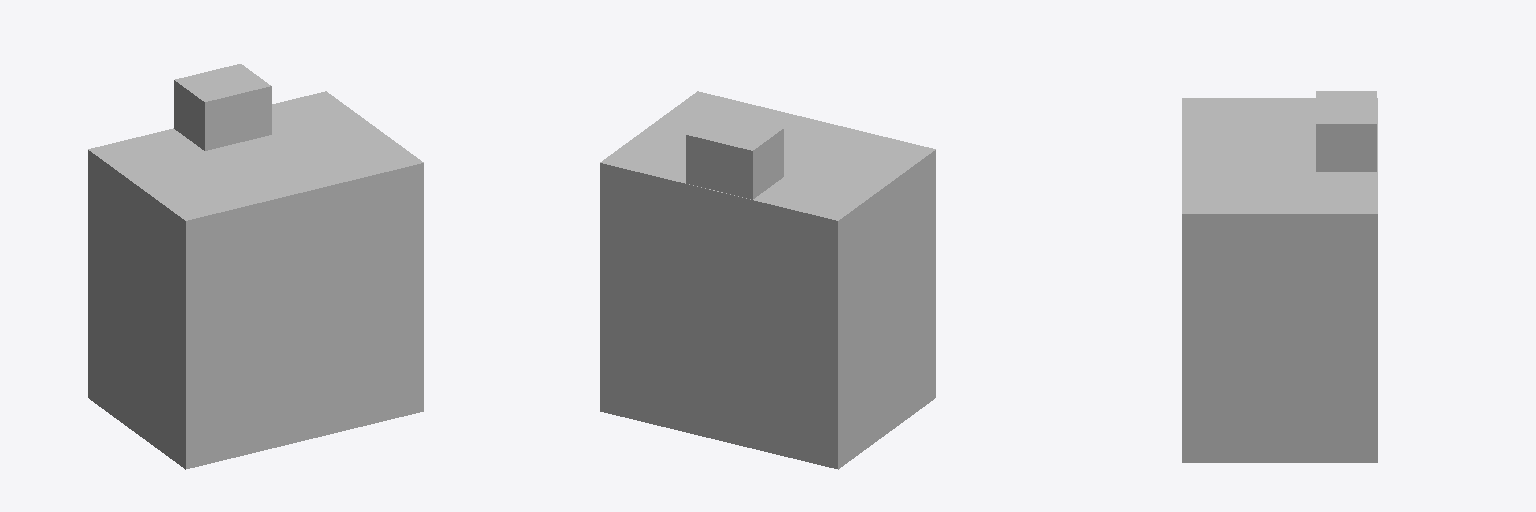
File: enemyCollisionBox.obj
3 renders of one model, left to right at view 1: azimuth 30°, elevation 25°; view 2: azimuth 150°, elevation 25°; view 3: azimuth 270°, elevation 25°, orthographic.
Visible parts, largest first — view 1: 立方体.001; view 2: 立方体.001; view 3: 立方体.001.
Part boxes in pixels (bbox=[...]): 立方体.001: bbox=[88, 64, 423, 469]; 立方体.001: bbox=[600, 91, 935, 469]; 立方体.001: bbox=[1182, 91, 1377, 462].
Size of the model in its own units: 1.54 by 1.83 by 1.09.